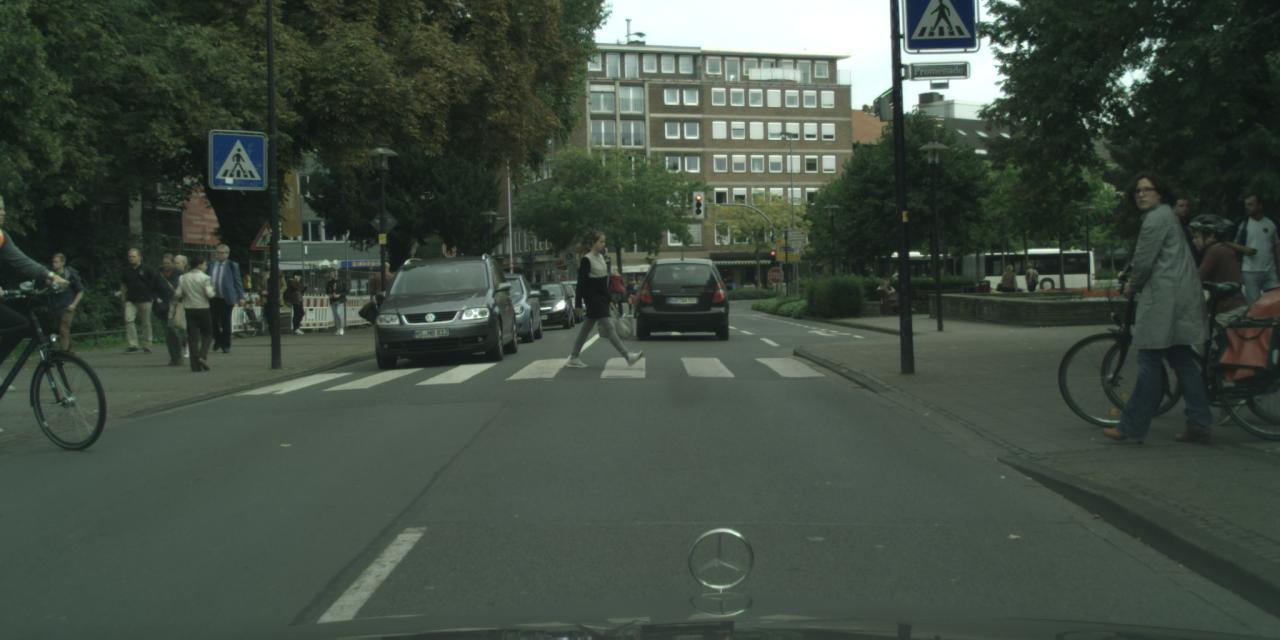ped: (1099, 168, 1209, 438), (1178, 213, 1260, 413), (1152, 196, 1212, 342), (1225, 192, 1279, 353), (574, 231, 629, 365), (149, 253, 195, 365), (176, 255, 221, 368), (200, 243, 244, 351), (115, 246, 158, 352), (40, 252, 83, 358), (161, 254, 202, 354), (254, 256, 289, 344), (371, 262, 402, 338), (322, 268, 348, 334), (284, 270, 308, 332), (607, 266, 625, 312), (1000, 264, 1018, 308), (624, 276, 640, 313), (1022, 262, 1037, 300)
